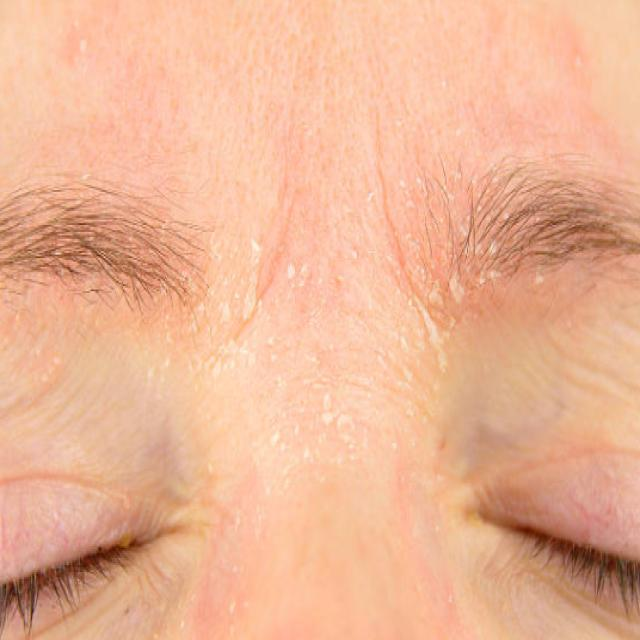flakiness: (162, 234, 464, 464)
